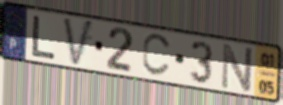2: (105, 26, 136, 75)
3: (189, 40, 215, 85)
C: (141, 33, 174, 79)
L: (30, 13, 58, 61)
N: (219, 41, 255, 94)
V: (62, 16, 96, 70)
